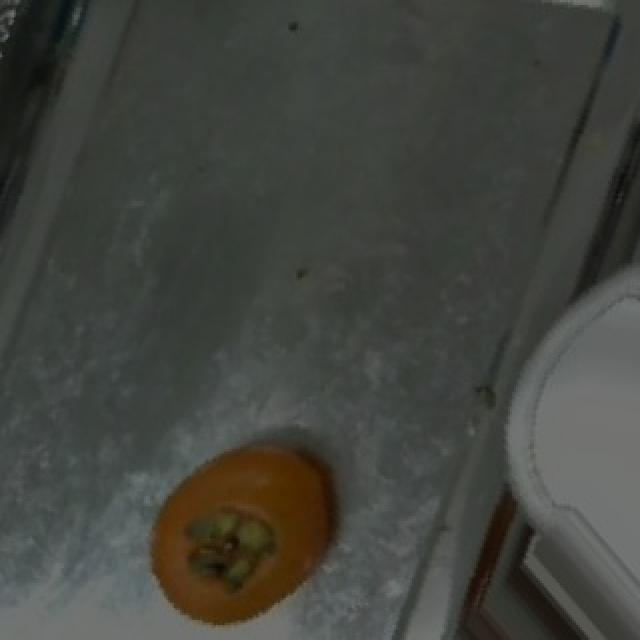Fruit: (132, 421, 352, 640)
